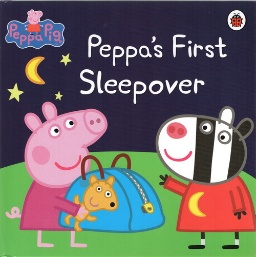Peppa: (6, 101, 110, 249)
